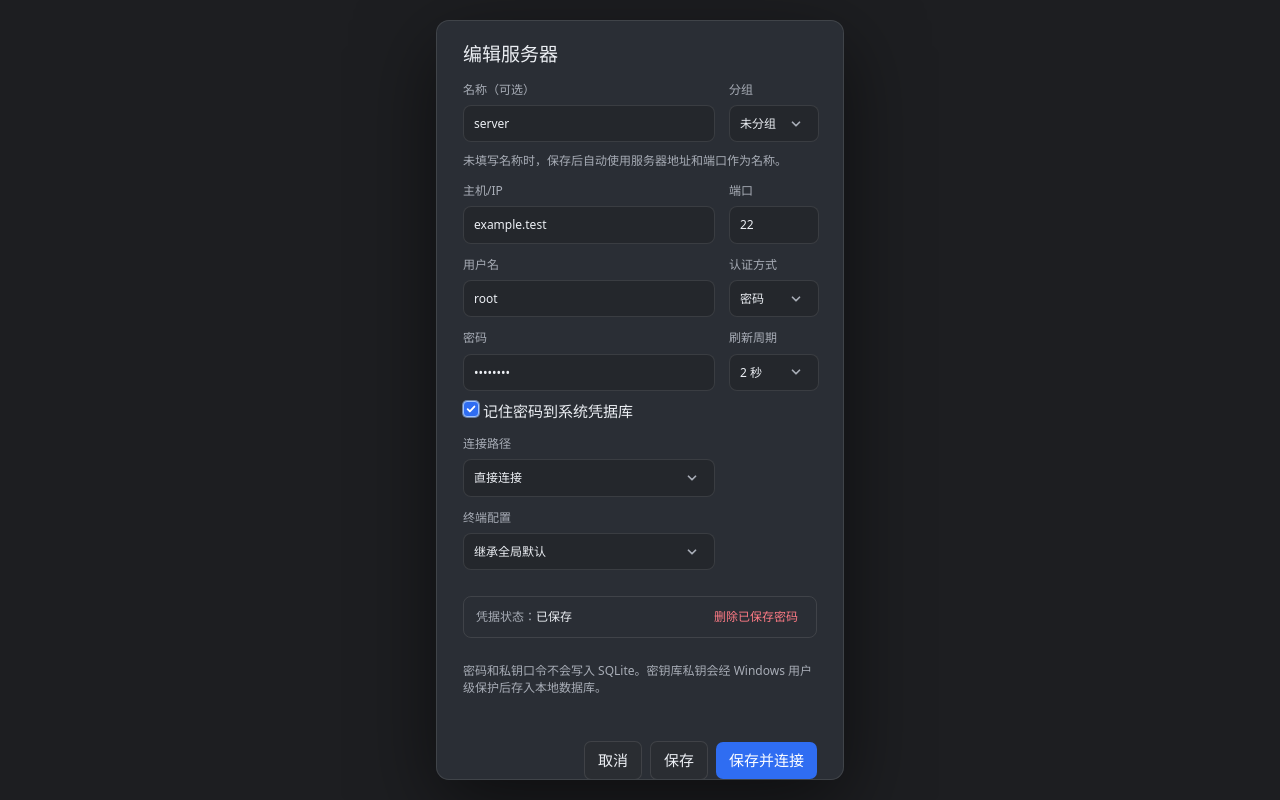
ConnectionDialog › switches saved password servers to key auth without a credential deletion confirmation
Select "SSH 私钥" in the dropdown with test id "auth-type" at point(774, 299), box [729, 280, 819, 317]
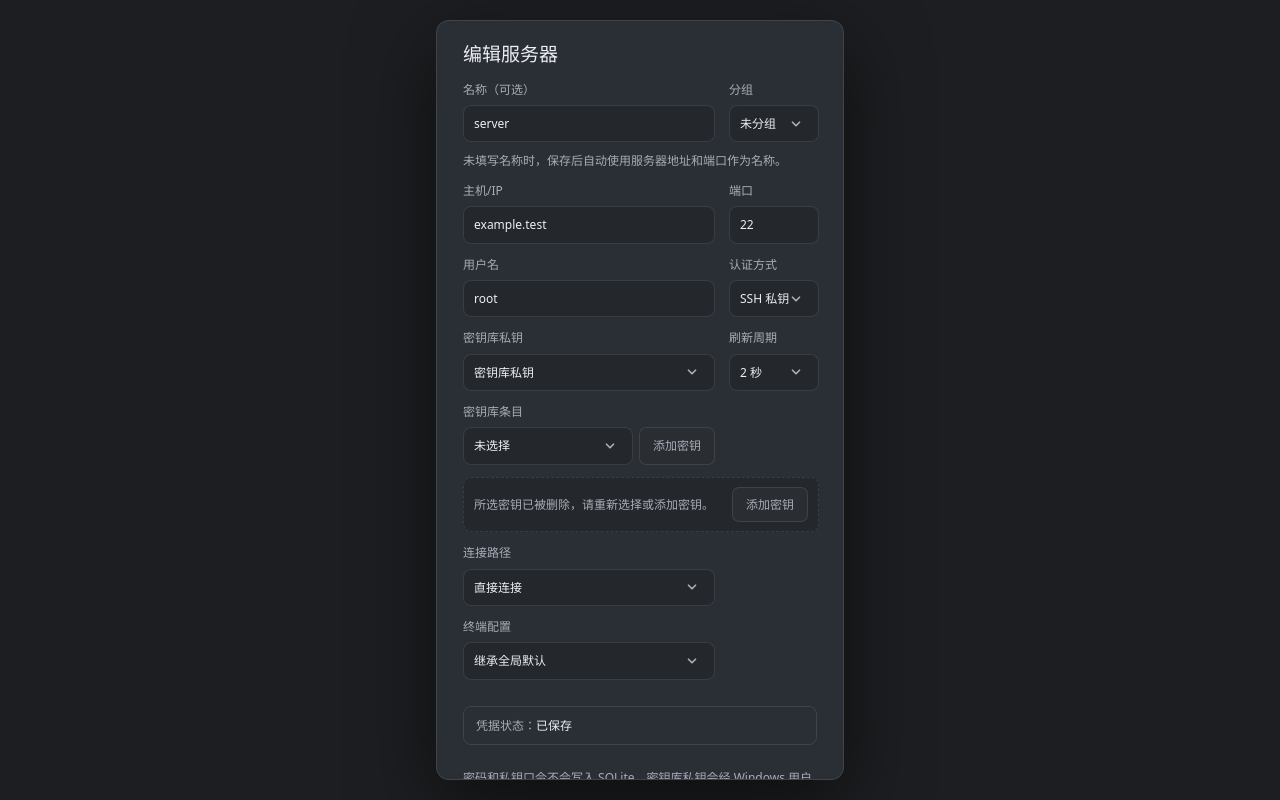
Expected: the text "凭据状态：已保存" is shown, [476, 717, 572, 734]
Result: the dropdown with test id "key-vault-select" is shown at [463, 428, 633, 465]
